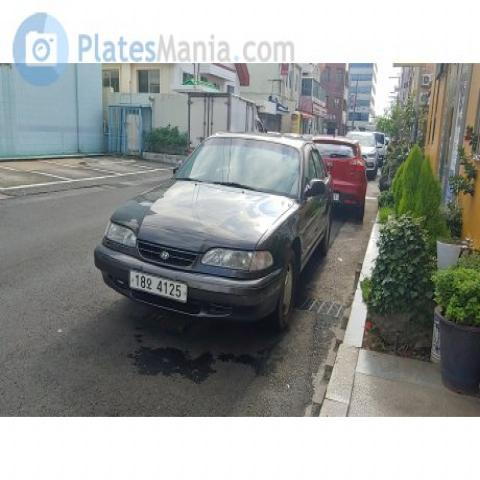LP: (126, 256, 189, 310)
